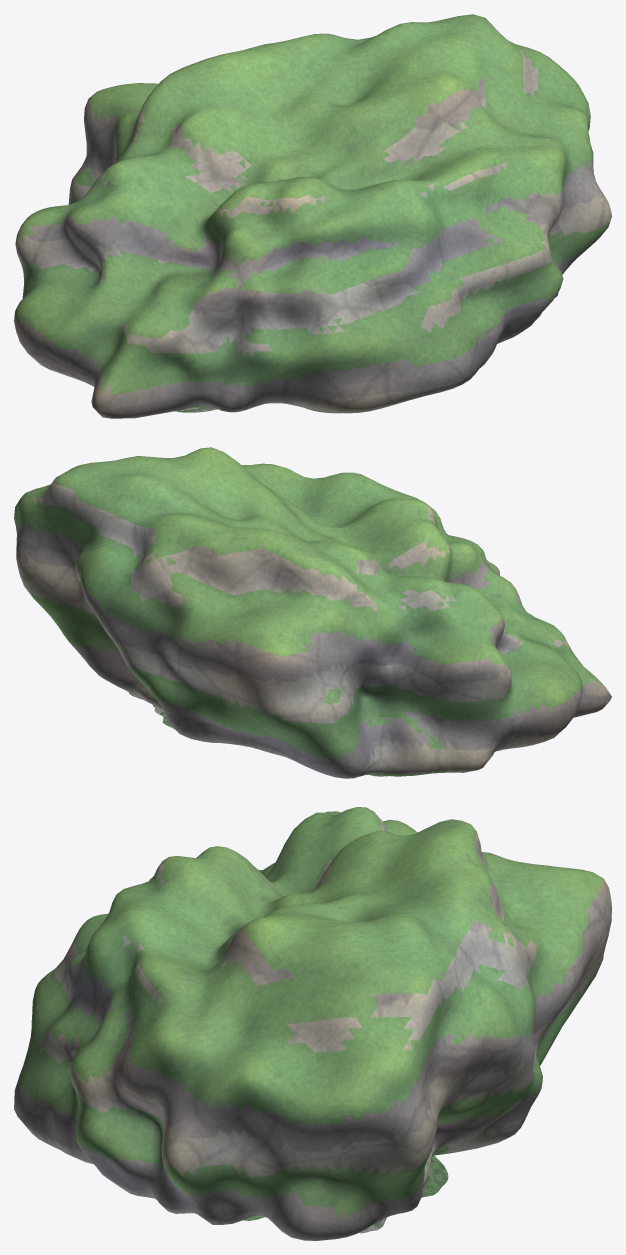
File: WM_RockSea_A.fbx
3 renders of one model, top to bottom at view 1: azimuth 30°, elevation 25°; view 2: azimuth 150°, elevation 25°; view 3: azimuth 270°, elevation 25°, orthographic. The views are drawn at different scales.
Visible parts, largest first — view 1: WM_RockSea_A_LOD0; view 2: WM_RockSea_A_LOD0; view 3: WM_RockSea_A_LOD0.
Boxes of the visible parts, left/top/right/bottom form: WM_RockSea_A_LOD0: left=14, top=14, right=611, bottom=418; WM_RockSea_A_LOD0: left=14, top=447, right=611, bottom=778; WM_RockSea_A_LOD0: left=14, top=807, right=611, bottom=1240.
Size of what is drawn, in the model's own units: 3.97 by 1.62 by 2.97.
